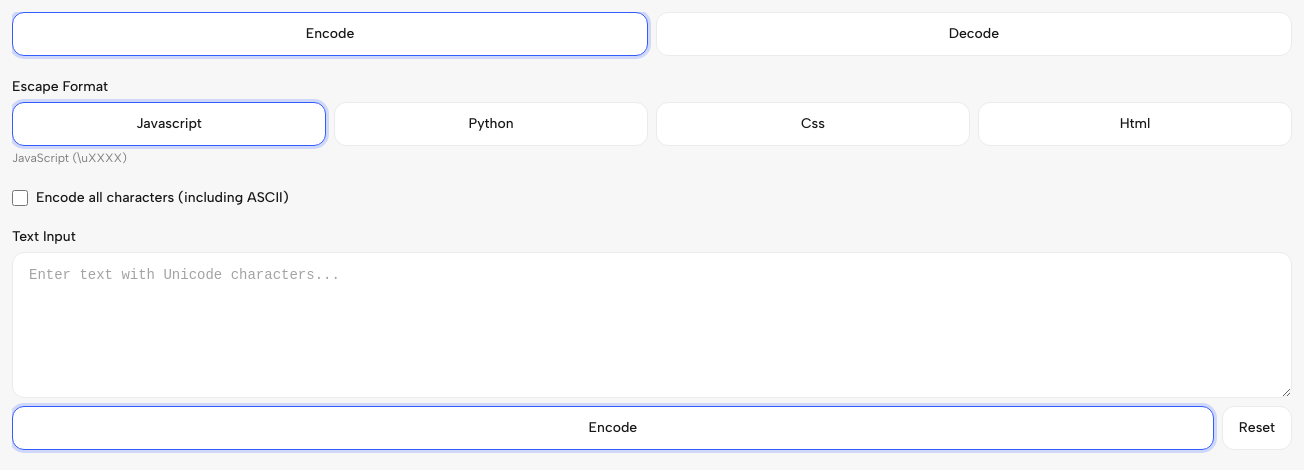
it: UnicodeEscapeTool › switches to decode mode
Click the button "Decode" at [974, 34], box [656,12,1292,56]
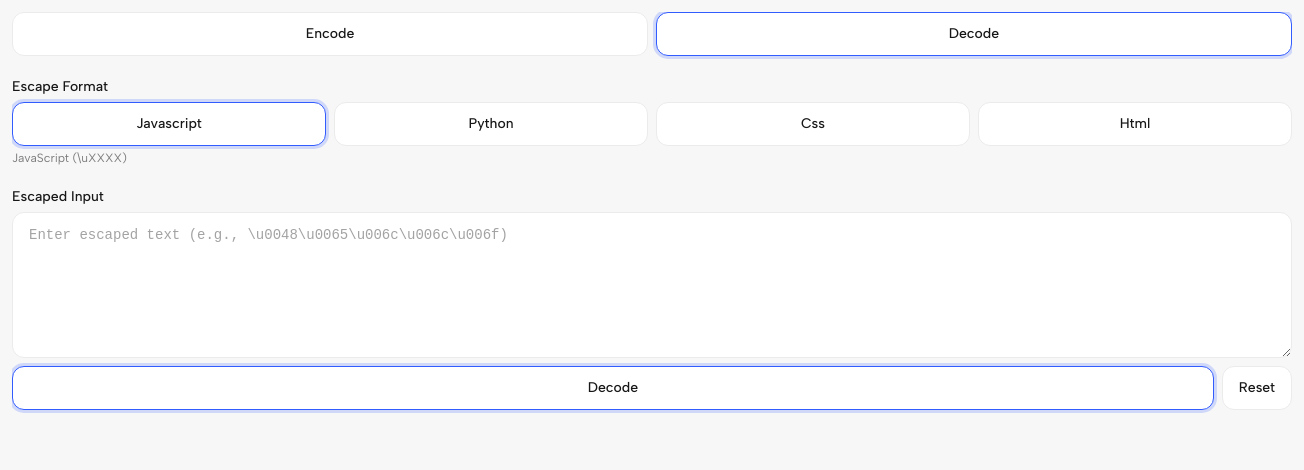
Now the text "Escaped Input" is shown, box [12,188,104,205]
